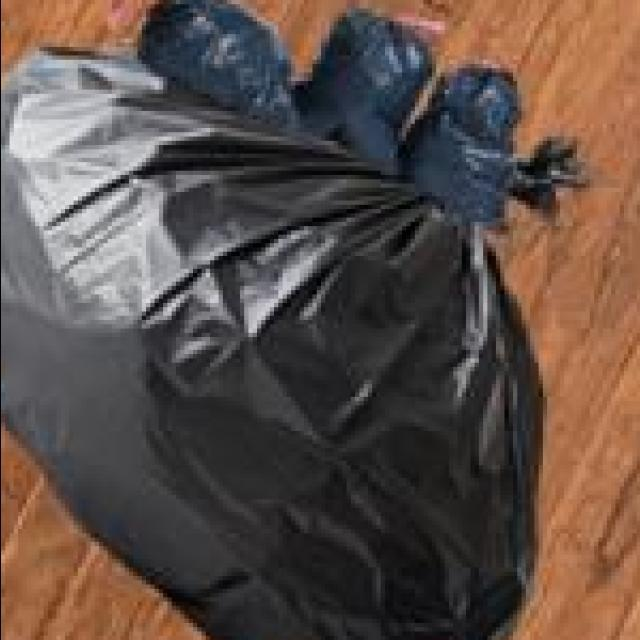Trashbag: (294, 16, 436, 184), (137, 0, 305, 132), (411, 65, 524, 236)
